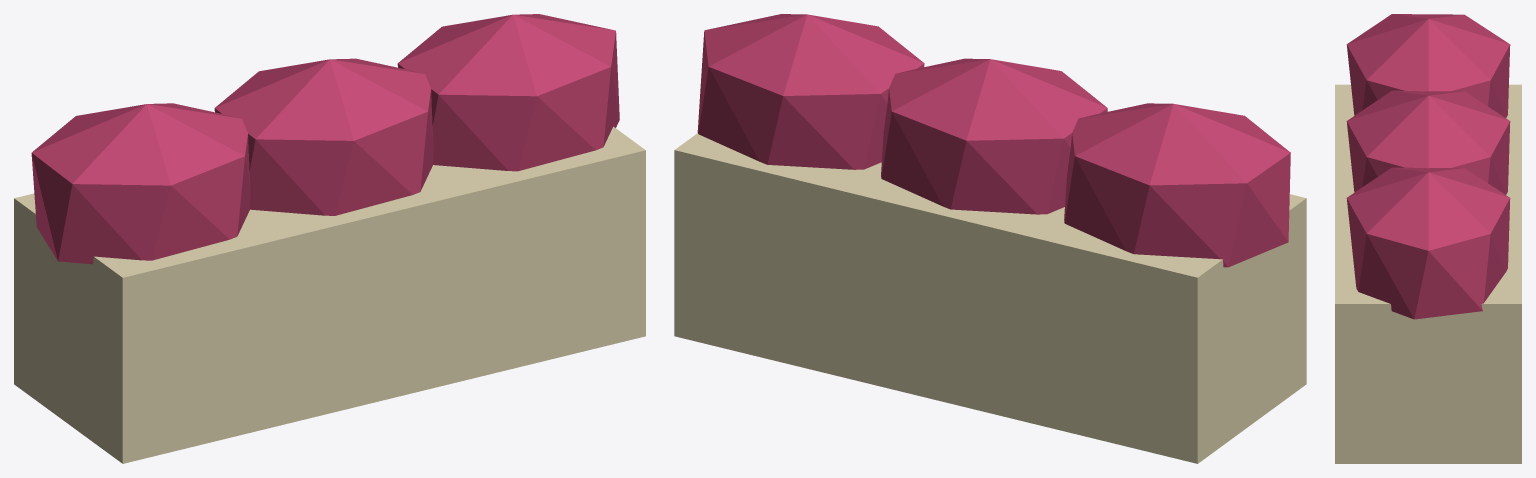
Rendered from rect_planter.glb.
3 renders of one model, left to right at view 1: azimuth 30°, elevation 25°; view 2: azimuth 150°, elevation 25°; view 3: azimuth 270°, elevation 25°, orthographic. The views are drawn at different scales.
Parts seen in each view (by area): view 1: rect_planter; view 2: rect_planter; view 3: rect_planter.
Part boxes in pixels (bbox=[...]): rect_planter: bbox=[14, 14, 645, 463]; rect_planter: bbox=[674, 14, 1306, 463]; rect_planter: bbox=[1335, 14, 1521, 463].
Bounding box in the file's own units: 2.18 × 1.1 × 0.72.
